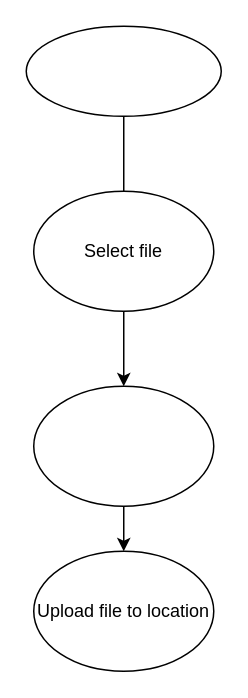
This 248x698 diagram has some shape labels left out. Each missing label, with the centre of its shape:
Select location to save to: the point at 123,445
Store new podcasts: the point at 123,70
